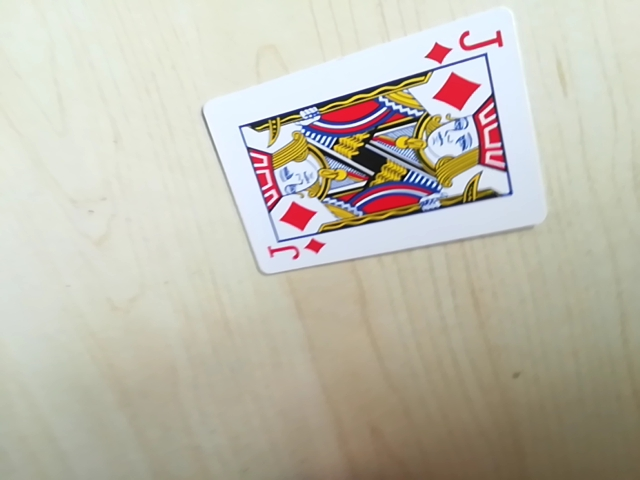fk j: (423, 23, 505, 65), (263, 234, 329, 270)
